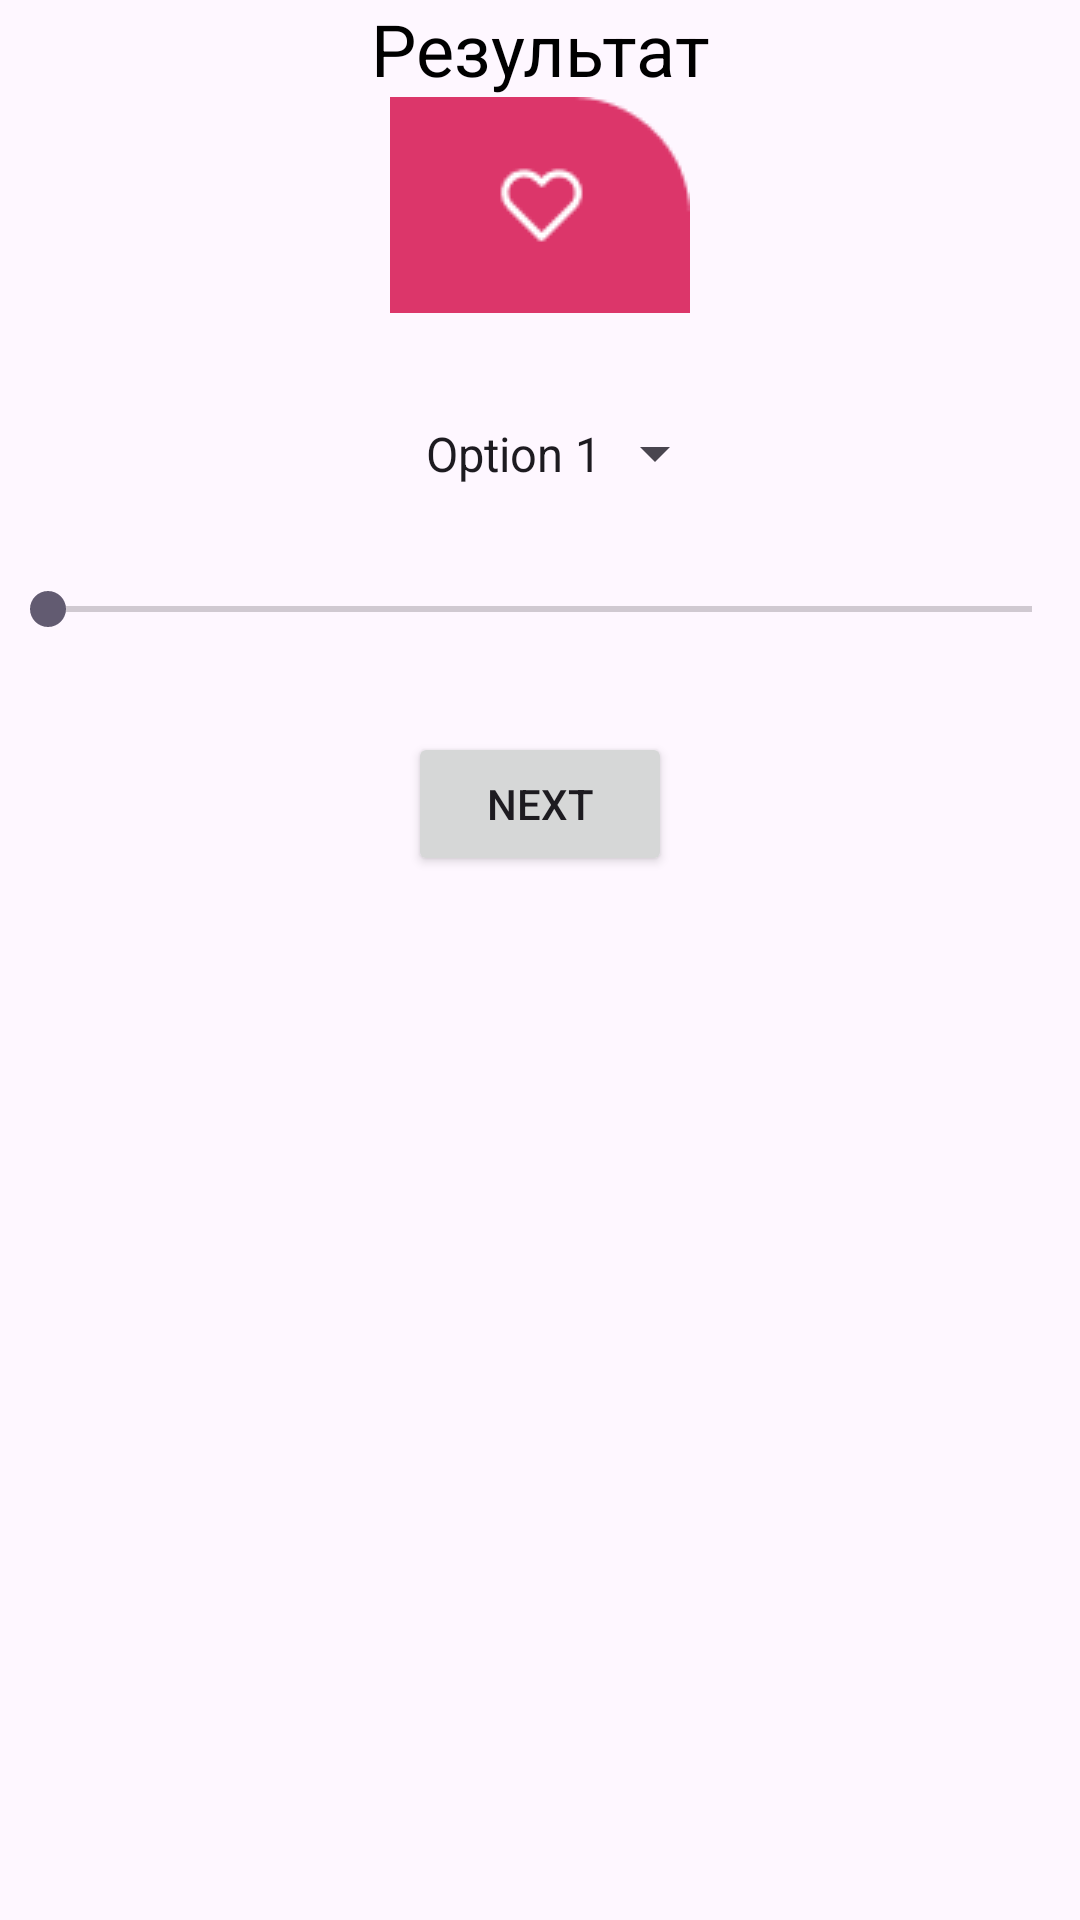

Icons on this 1080x1920 Android screen, each with its box as bbox=(x1, y1, x2, y2):
Heart button to mark as favorite: bbox=(390, 97, 690, 313)
